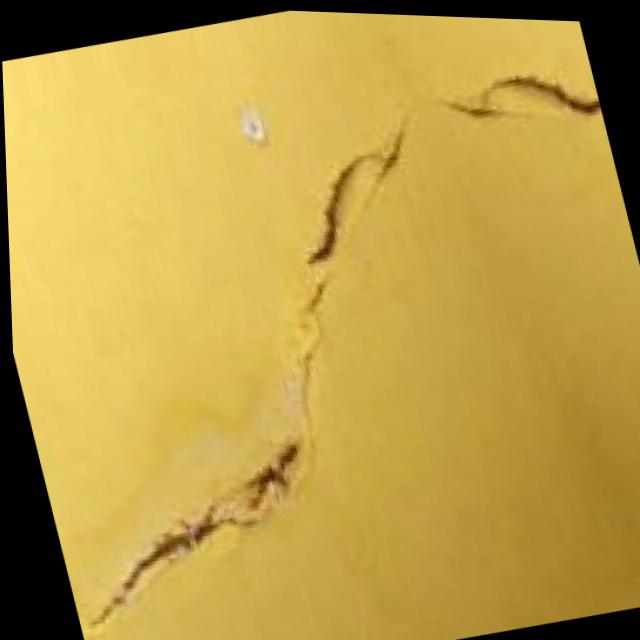Crack: (234, 20, 639, 330), (24, 359, 377, 640)
